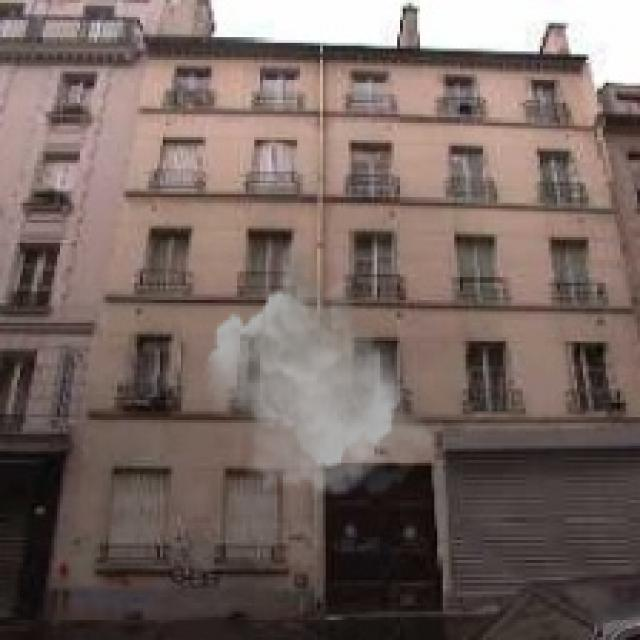smoke: (203, 240, 434, 503)
